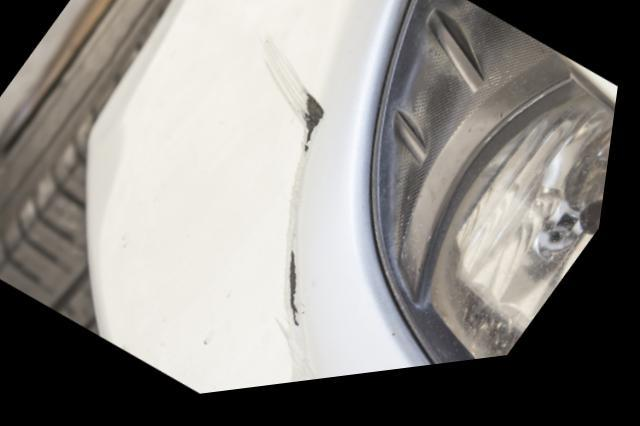scratch: (261, 38, 338, 393)
